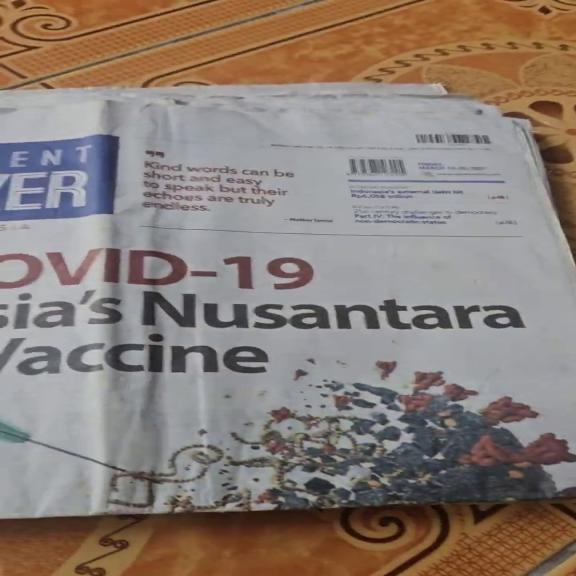Kertas: (8, 75, 576, 522)
